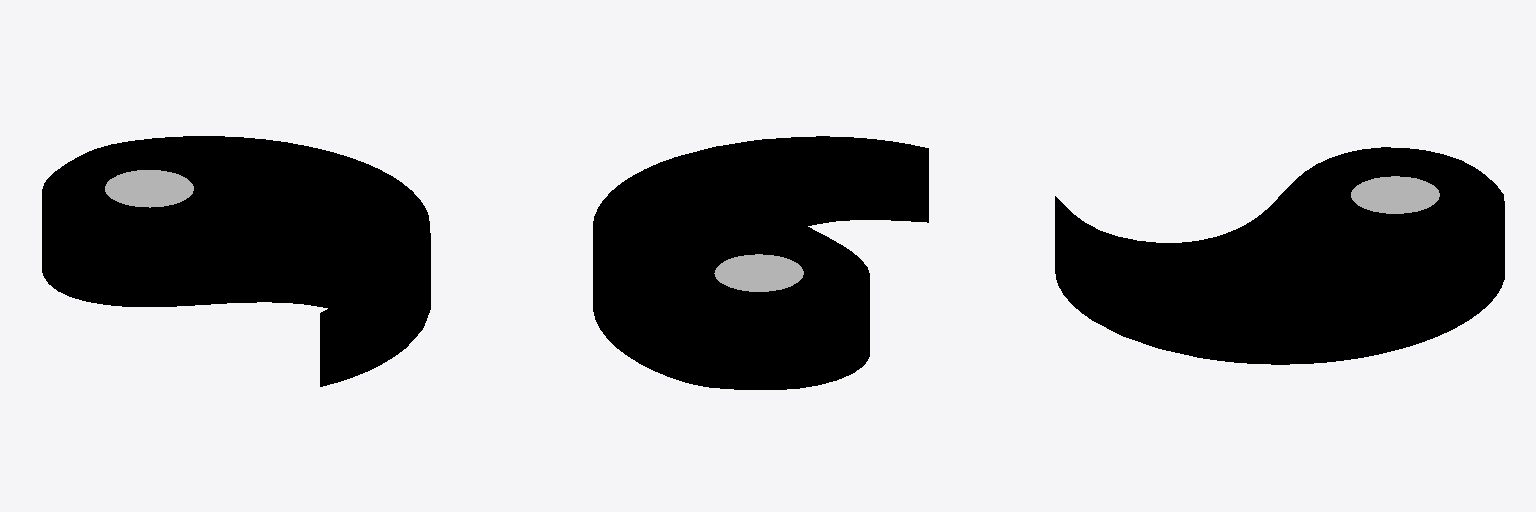
File: Yin.obj
The picture shows the model from 3 angles: view 1: azimuth 30°, elevation 25°; view 2: azimuth 150°, elevation 25°; view 3: azimuth 270°, elevation 25°; orthographic projection.
Parts seen in each view (by area): view 1: Yin_Roundcube.001; view 2: Yin_Roundcube.001; view 3: Yin_Roundcube.001.
Part boxes in pixels (left/top/right/bottom): Yin_Roundcube.001: left=42, top=136, right=430, bottom=386; Yin_Roundcube.001: left=593, top=136, right=928, bottom=389; Yin_Roundcube.001: left=1055, top=147, right=1504, bottom=364.
Bounding box in the file's own units: 1.47 × 0.3555 × 1.95.